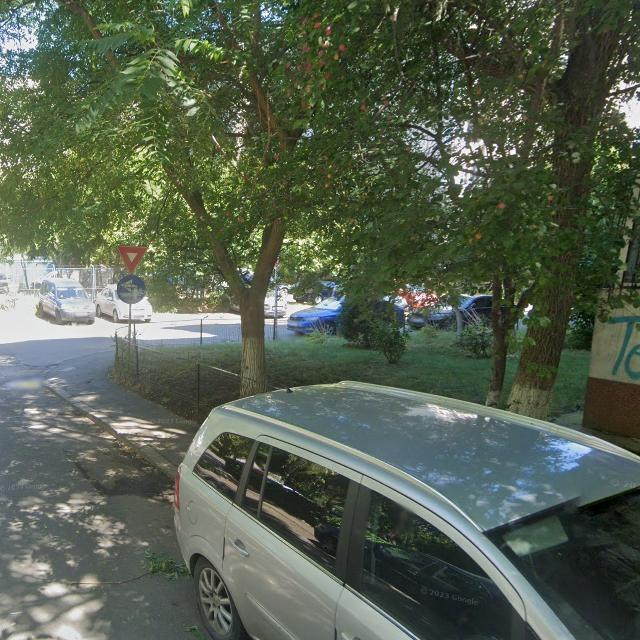prio_give_way: (117, 245, 149, 275)
